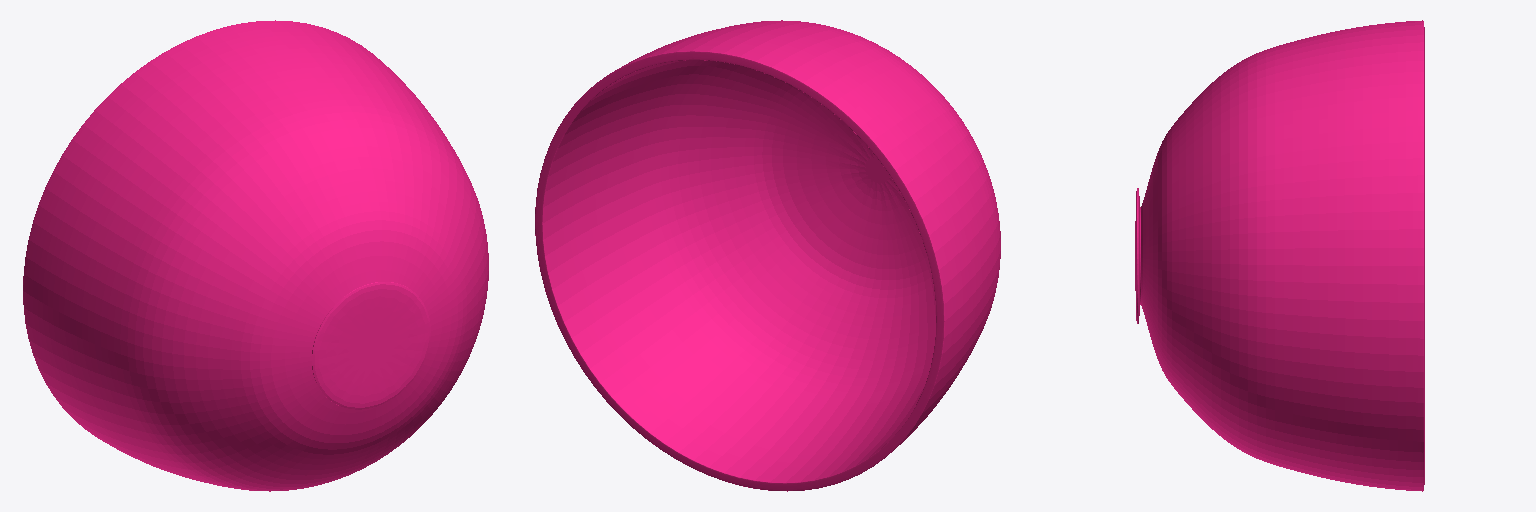
The robot description file, URDF, robot "bowl.urdf":
<?xml version="0.0"?>
<robot name="bowl.urdf">
    <link name="base_link">

        <contact>
        <lateral_friction value="1.0"/>
        </contact>

        <visual>
            <geometry>
                <mesh filename="bowl.obj" scale="1 1 1"/>
            </geometry>
            <material name="shiny_pink">
                <color rgba="1 0.2 0.6 1"/>  <!-- RGB (1, 0.2, 0.6) = Pink, Alpha=1 (Opaque) -->
            </material>
        </visual>

        <collision>
            <geometry>
                <mesh filename="bowl_vhacd2.obj" scale="1 1 1"/>
            </geometry>
        </collision>

        <inertial>
            <mass value="0.2"/>
            <origin xyz="0 0 0"/>
            <inertia ixx="0.01" ixy="0" ixz="0" iyy="0.01" iyz="0" izz="0.01"/>
        </inertial>
    </link>
</robot>

--- Facts derived from the render (not from the file) ---
Views: 3 orthographic renders of the robot side by side, from view 1: azimuth 30°, elevation 25°; view 2: azimuth 150°, elevation 25°; view 3: azimuth 270°, elevation 25°.
Robot: bowl.urdf — 1 links, 0 joints (none); root link base_link; default pose: all joints at 0.
Visible links, largest first — view 1: base_link; view 2: base_link; view 3: base_link.
Boxes of the visible links, x1,y1,x2,y2 form: base_link: [23, 20, 488, 491]; base_link: [535, 20, 1000, 491]; base_link: [1135, 20, 1424, 491].
Bounding box of the posed robot: 13.12 × 8.05 × 13.12 m (x, y, z).
1 mesh visuals loaded from 1 distinct referenced files (1 OBJ).